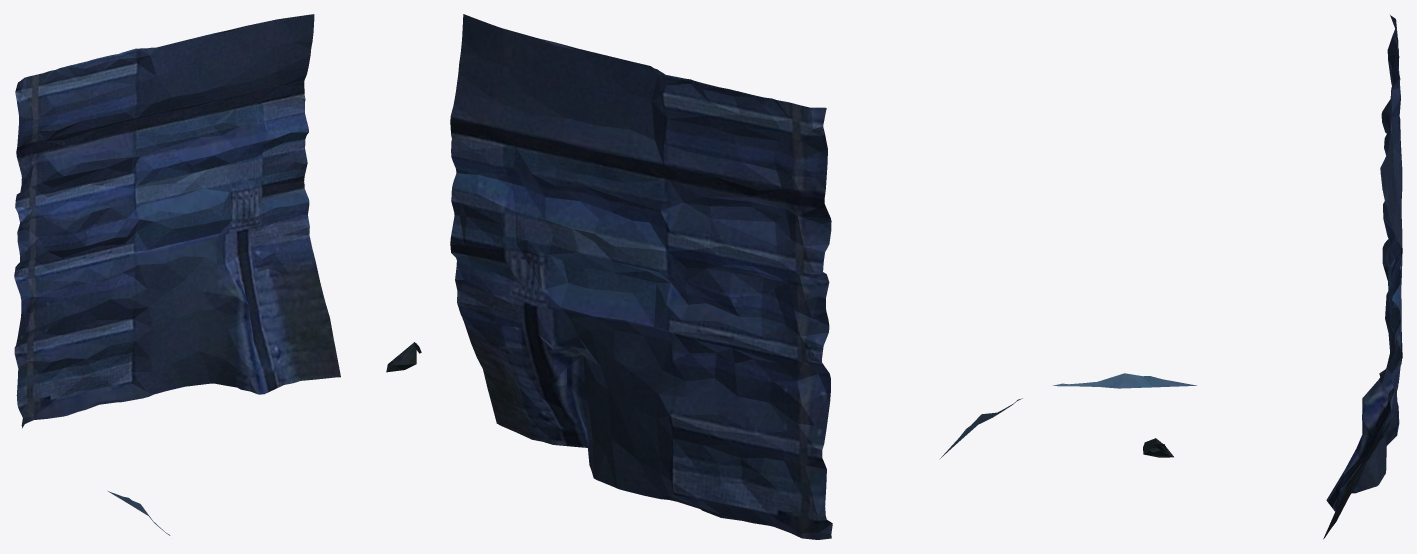
File: tile_4_22_18_tex.obj
3 renders of one model, left to right at view 1: azimuth 30°, elevation 25°; view 2: azimuth 150°, elevation 25°; view 3: azimuth 270°, elevation 25°, orthographic. The views are drawn at different scales.
Parts seen in each view (by area): view 1: obj_0; view 2: obj_0; view 3: obj_0.
Boxes of the visible parts, x1=… form: obj_0: x1=14, y1=14, x2=421, y2=535; obj_0: x1=450, y1=14, x2=1022, y2=539; obj_0: x1=1053, y1=15, x2=1402, y2=539.
Bounding box in the file's own units: 10.02 × 11.27 × 9.63.
Materials: 1 (1 with a texture image).
